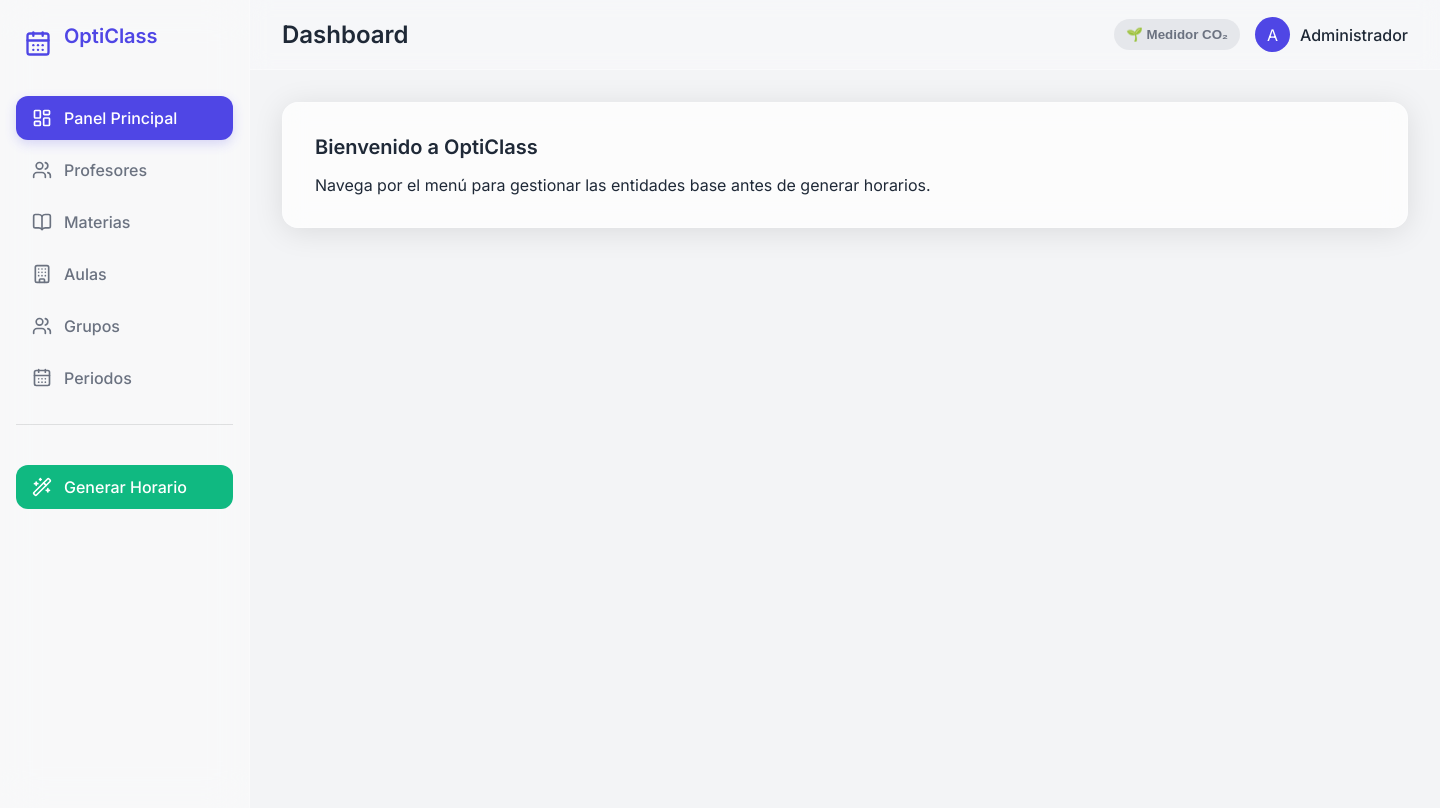
Test: App › navega al generador de horarios
Click the list item "Generar Horario": (124,487) [16,465,233,509]
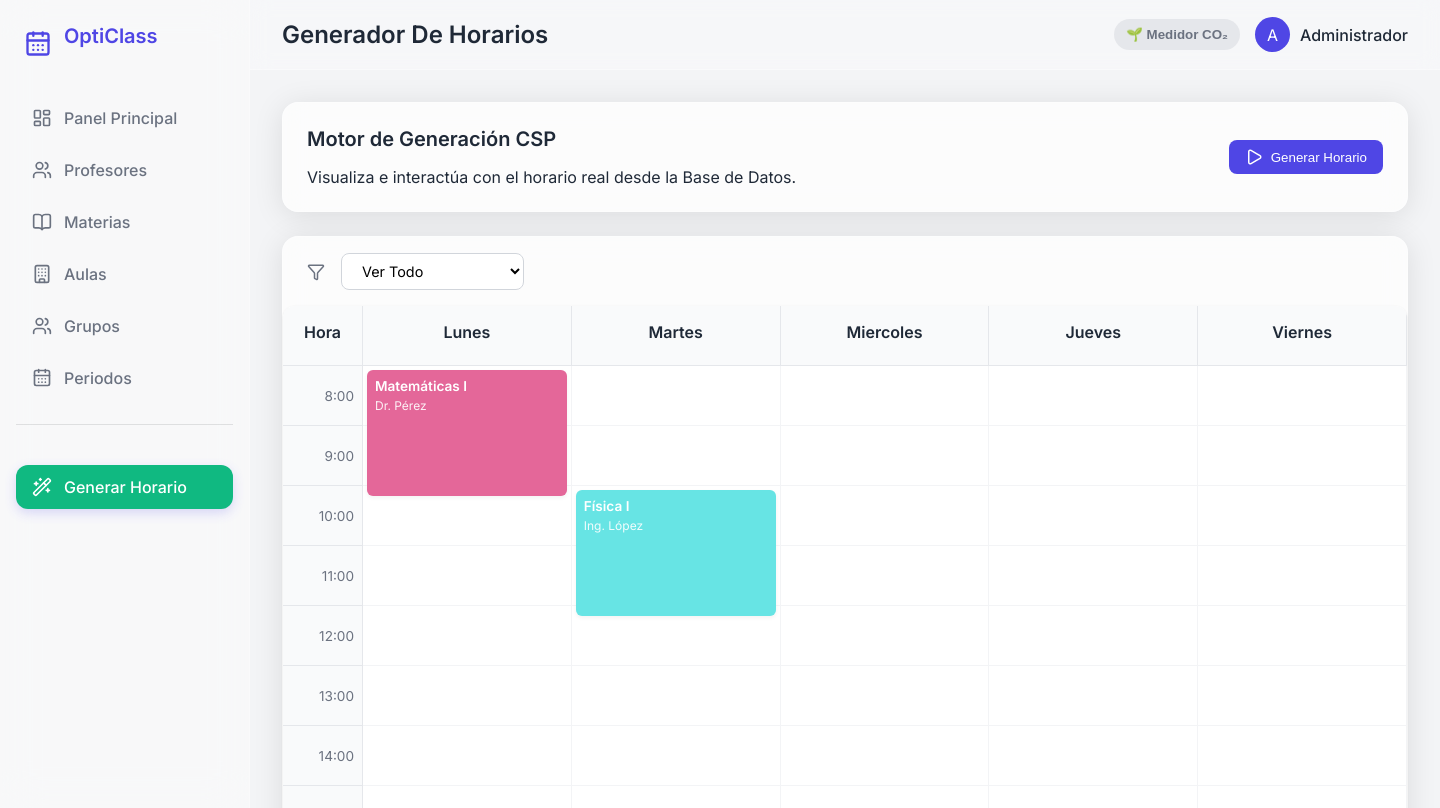
Check: the heading "Generador de Horarios" is shown, box [282,20,548,49]
